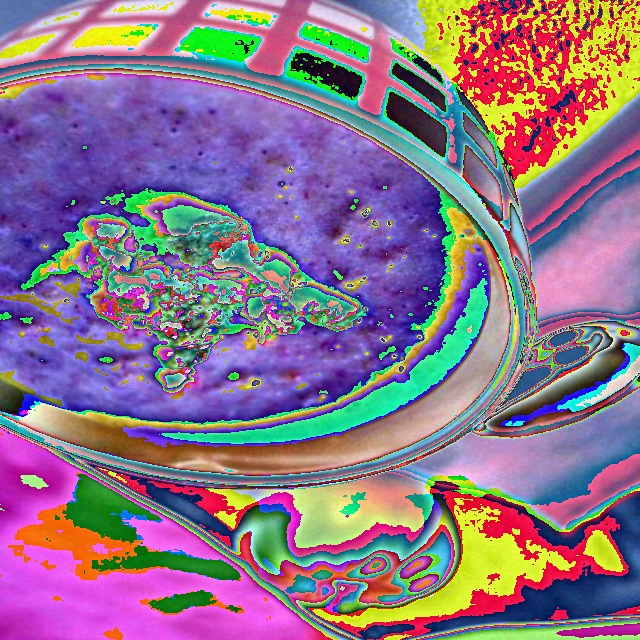background: (0, 77, 493, 447), (231, 136, 461, 614)
